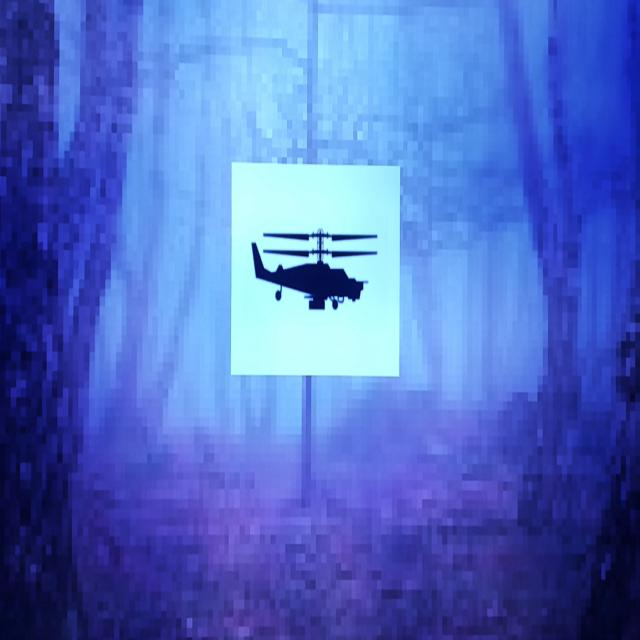Ka-52 Enemy: (252, 229, 376, 309)
